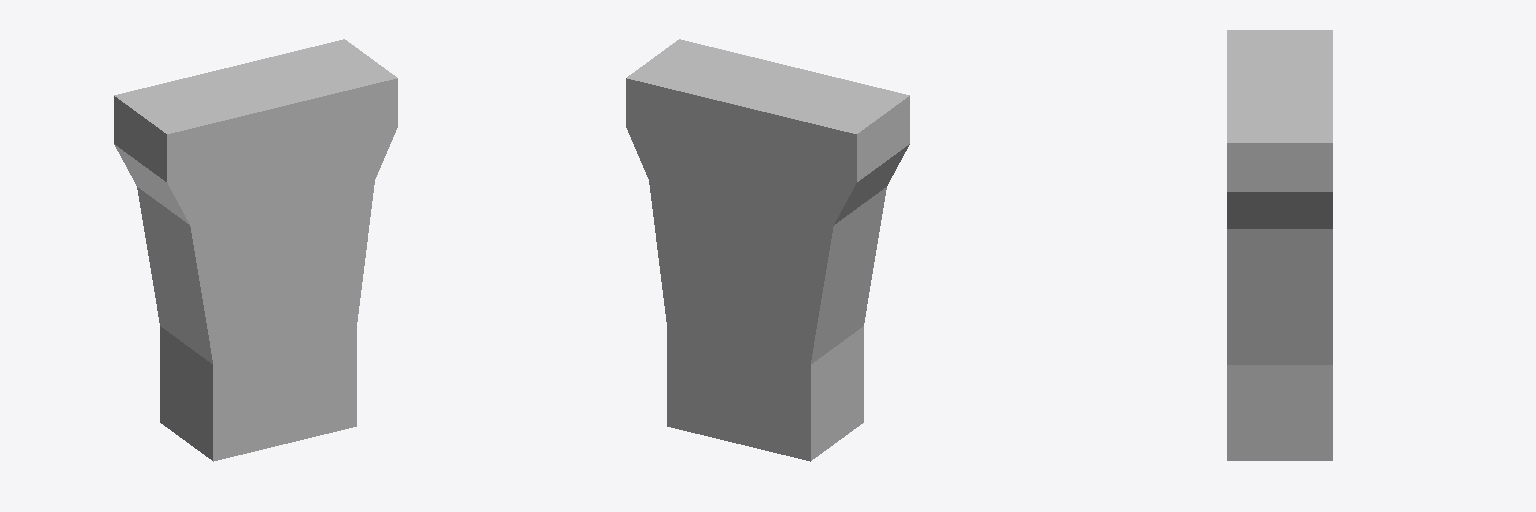
The model's file is torso.obj.
The picture shows the model from 3 angles: view 1: azimuth 30°, elevation 25°; view 2: azimuth 150°, elevation 25°; view 3: azimuth 270°, elevation 25°; orthographic projection.
Parts seen in each view (by area): view 1: Torso; view 2: Torso; view 3: Torso.
Boxes of the visible parts, <box> form: Torso: <box>114,39,397,461</box>; Torso: <box>626,39,909,461</box>; Torso: <box>1227,30,1332,460</box>.
Size of the model in its own units: 5 by 7 by 2.